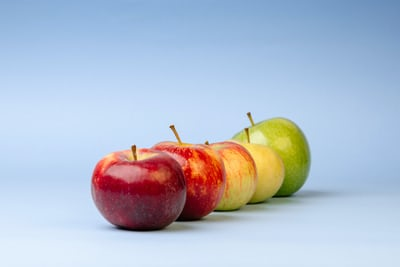apple: (86, 141, 188, 232), (146, 123, 225, 222), (235, 108, 312, 198), (187, 129, 258, 212), (226, 139, 288, 205)
